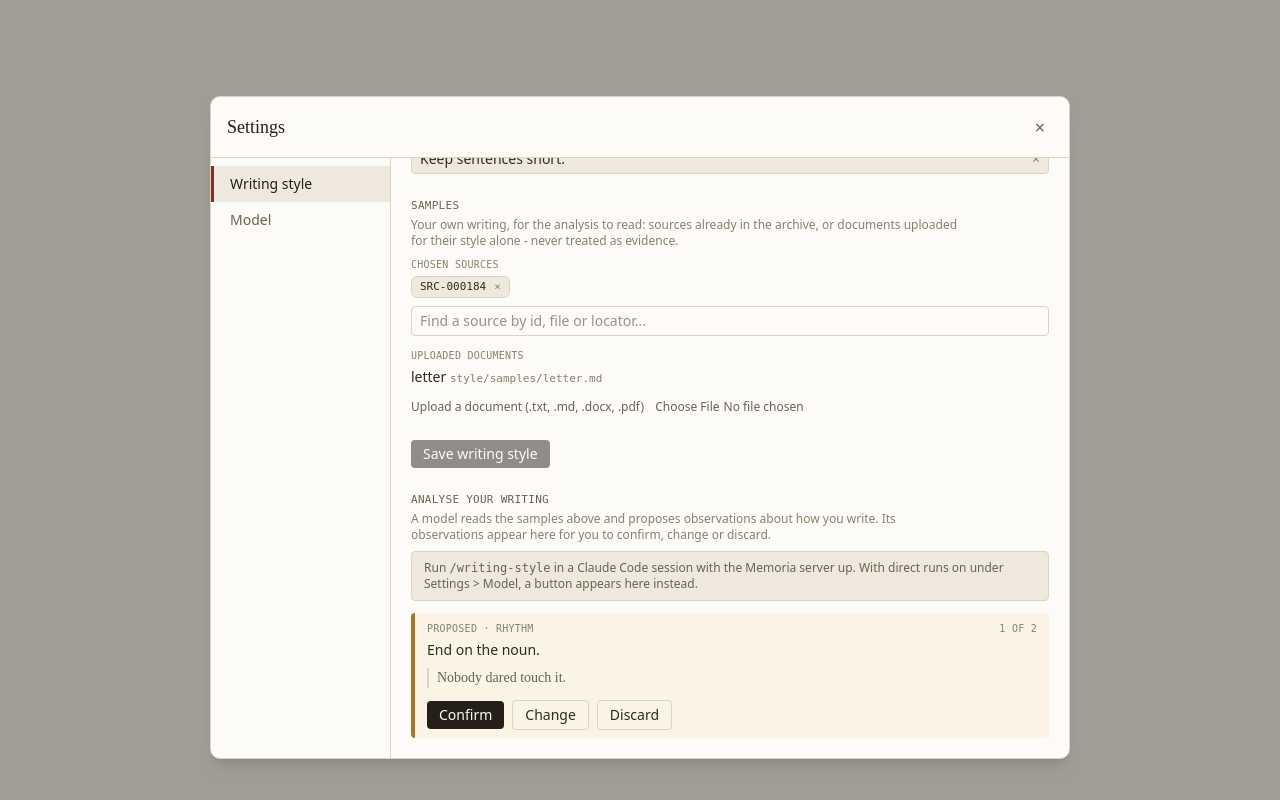
the settings dialog › confirms, changes and discards proposals one at a time
The width and height of the screenshot is (1280, 800).
(page scrolled)
Confirm as proposed.
Click the button "Confirm" at (466, 714), box [427,700,504,728]
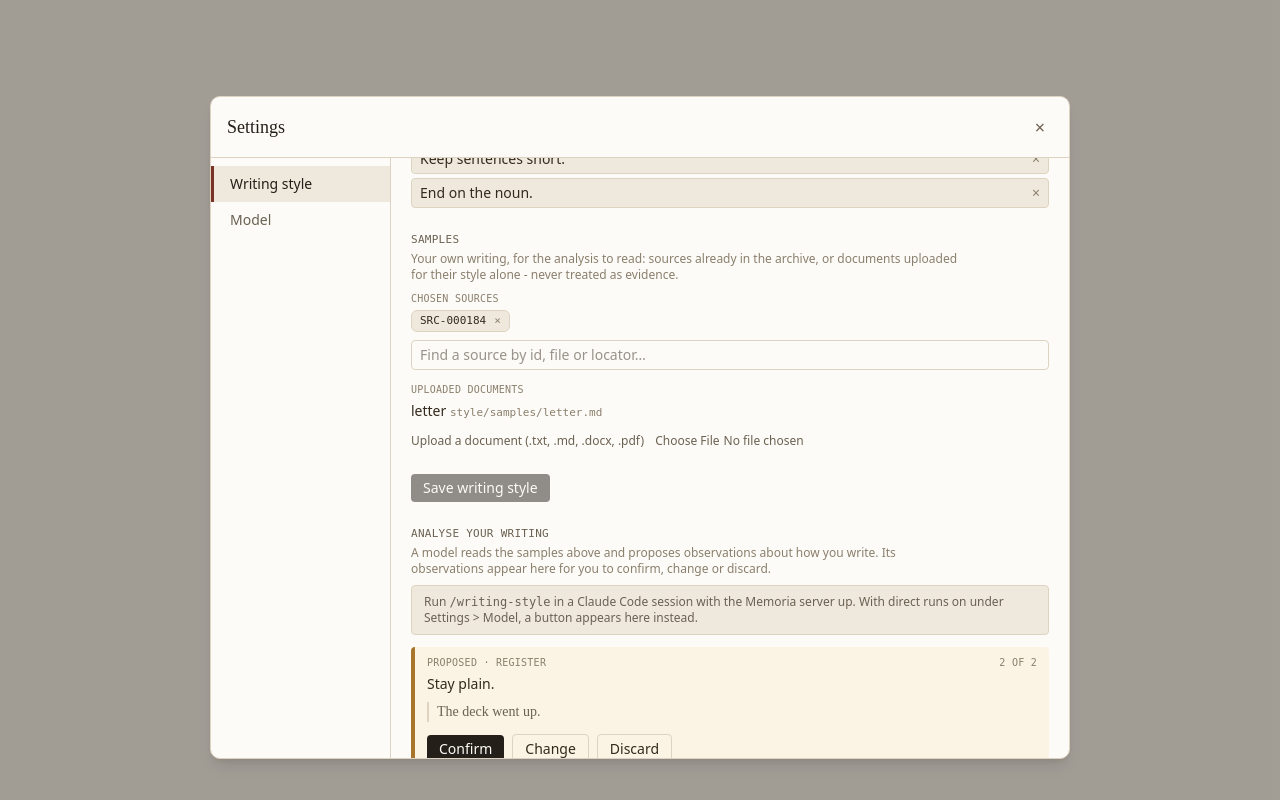
Result: the text "2 of 2" is shown at [999,654,1037,670]
Click the button "Change" at (551, 748), box [512,734,589,764]
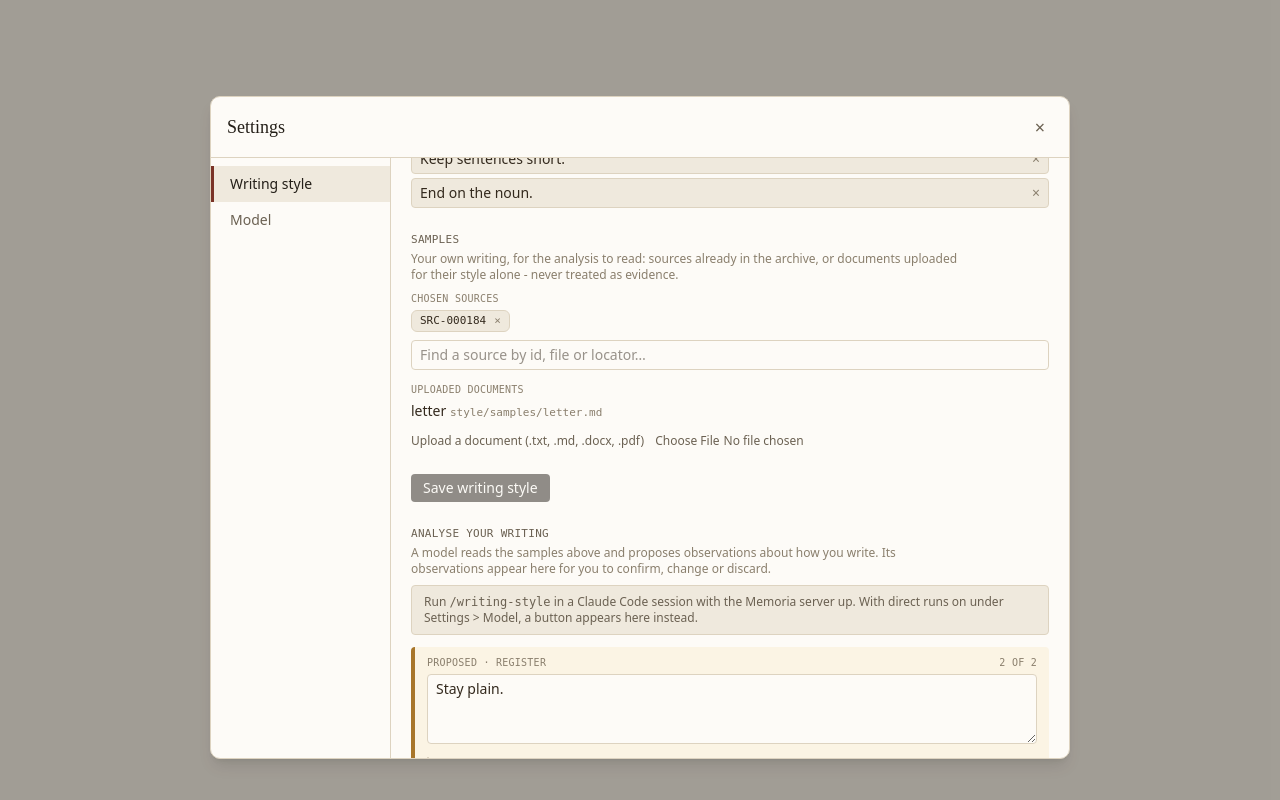
Result: the text box named "Changed observation" holds "Stay plain."
Replace the text in the text box named "Changed observation" with "Stay plain, and short." at (732, 708), box [427,674,1037,744]
(page scrolled)
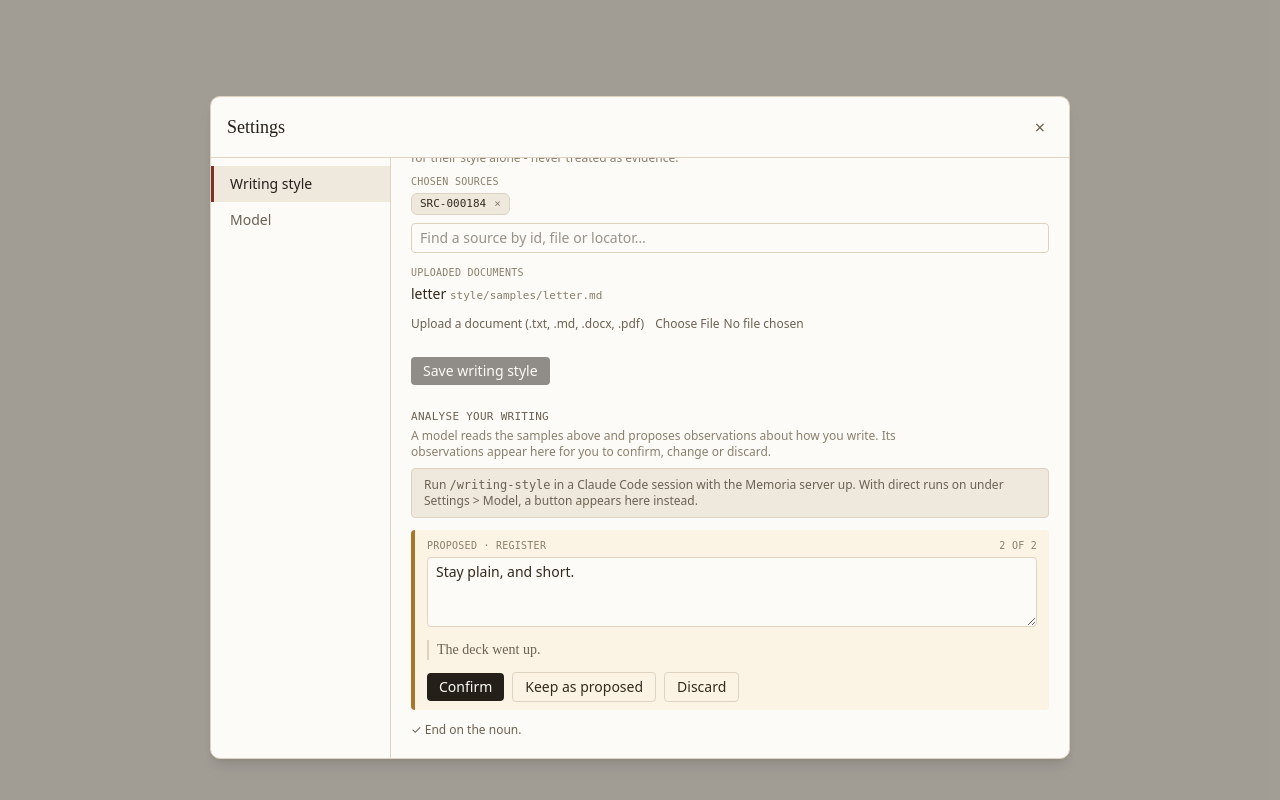
Click the button "Confirm" at (466, 686), box [427,672,504,700]
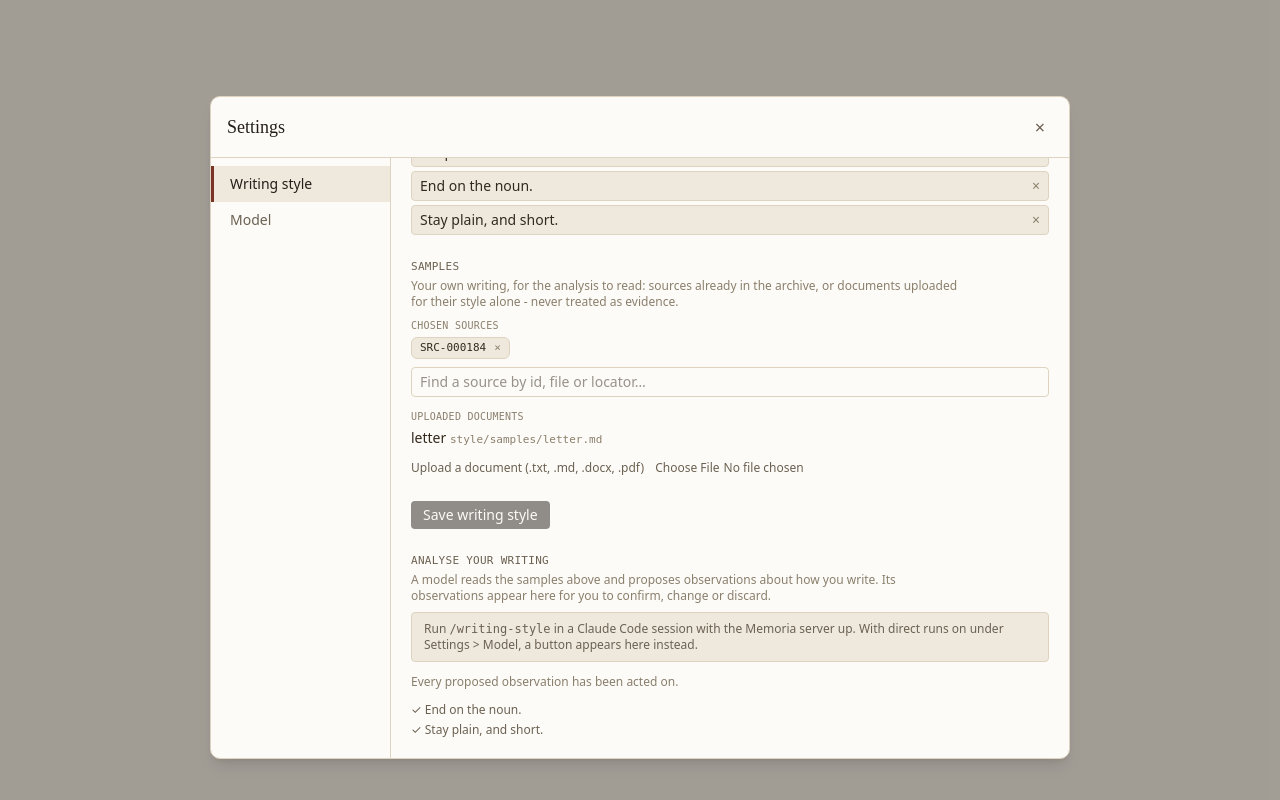
Result: the text "Every proposed observation has been acted on." is shown at [411,672,678,690]
Result: the text "Stay plain, and short." is shown at [420,210,558,229]
